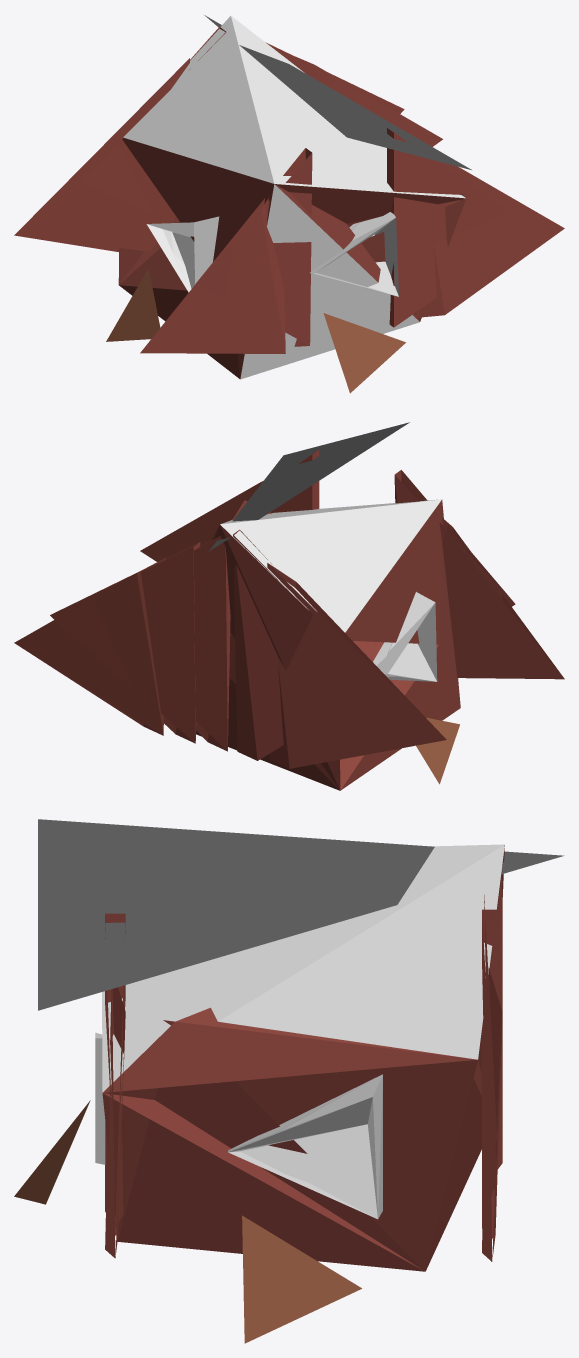
The model's file is ChickenCoop.lod3.glb.
3 renders of one model, top to bottom at view 1: azimuth 30°, elevation 25°; view 2: azimuth 150°, elevation 25°; view 3: azimuth 270°, elevation 25°, orthographic. The views are drawn at different scales.
Visible parts, largest first — view 1: ChickenCoop; view 2: ChickenCoop; view 3: ChickenCoop.
Boxes of the visible parts, left/top/right/bottom form: ChickenCoop: left=14, top=15, right=564, bottom=393; ChickenCoop: left=14, top=422, right=564, bottom=790; ChickenCoop: left=14, top=819, right=564, bottom=1343.
Size of the model in its own units: 2.75 by 1.53 by 2.
